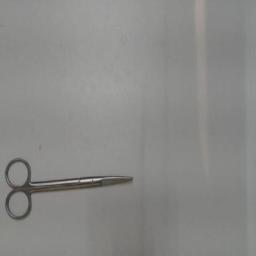Curved Mayo Scissors: (6, 156, 134, 224)
